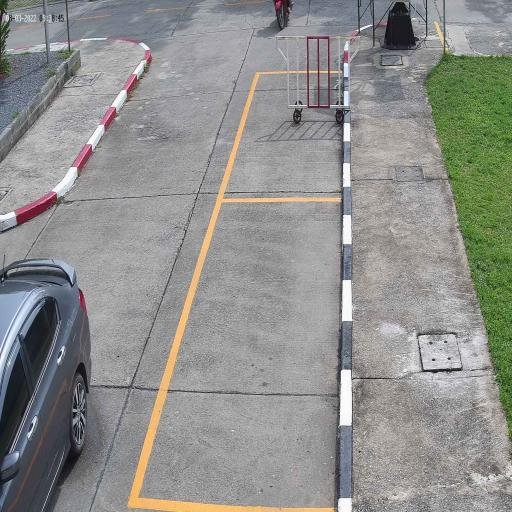car: (0, 259, 93, 512)
